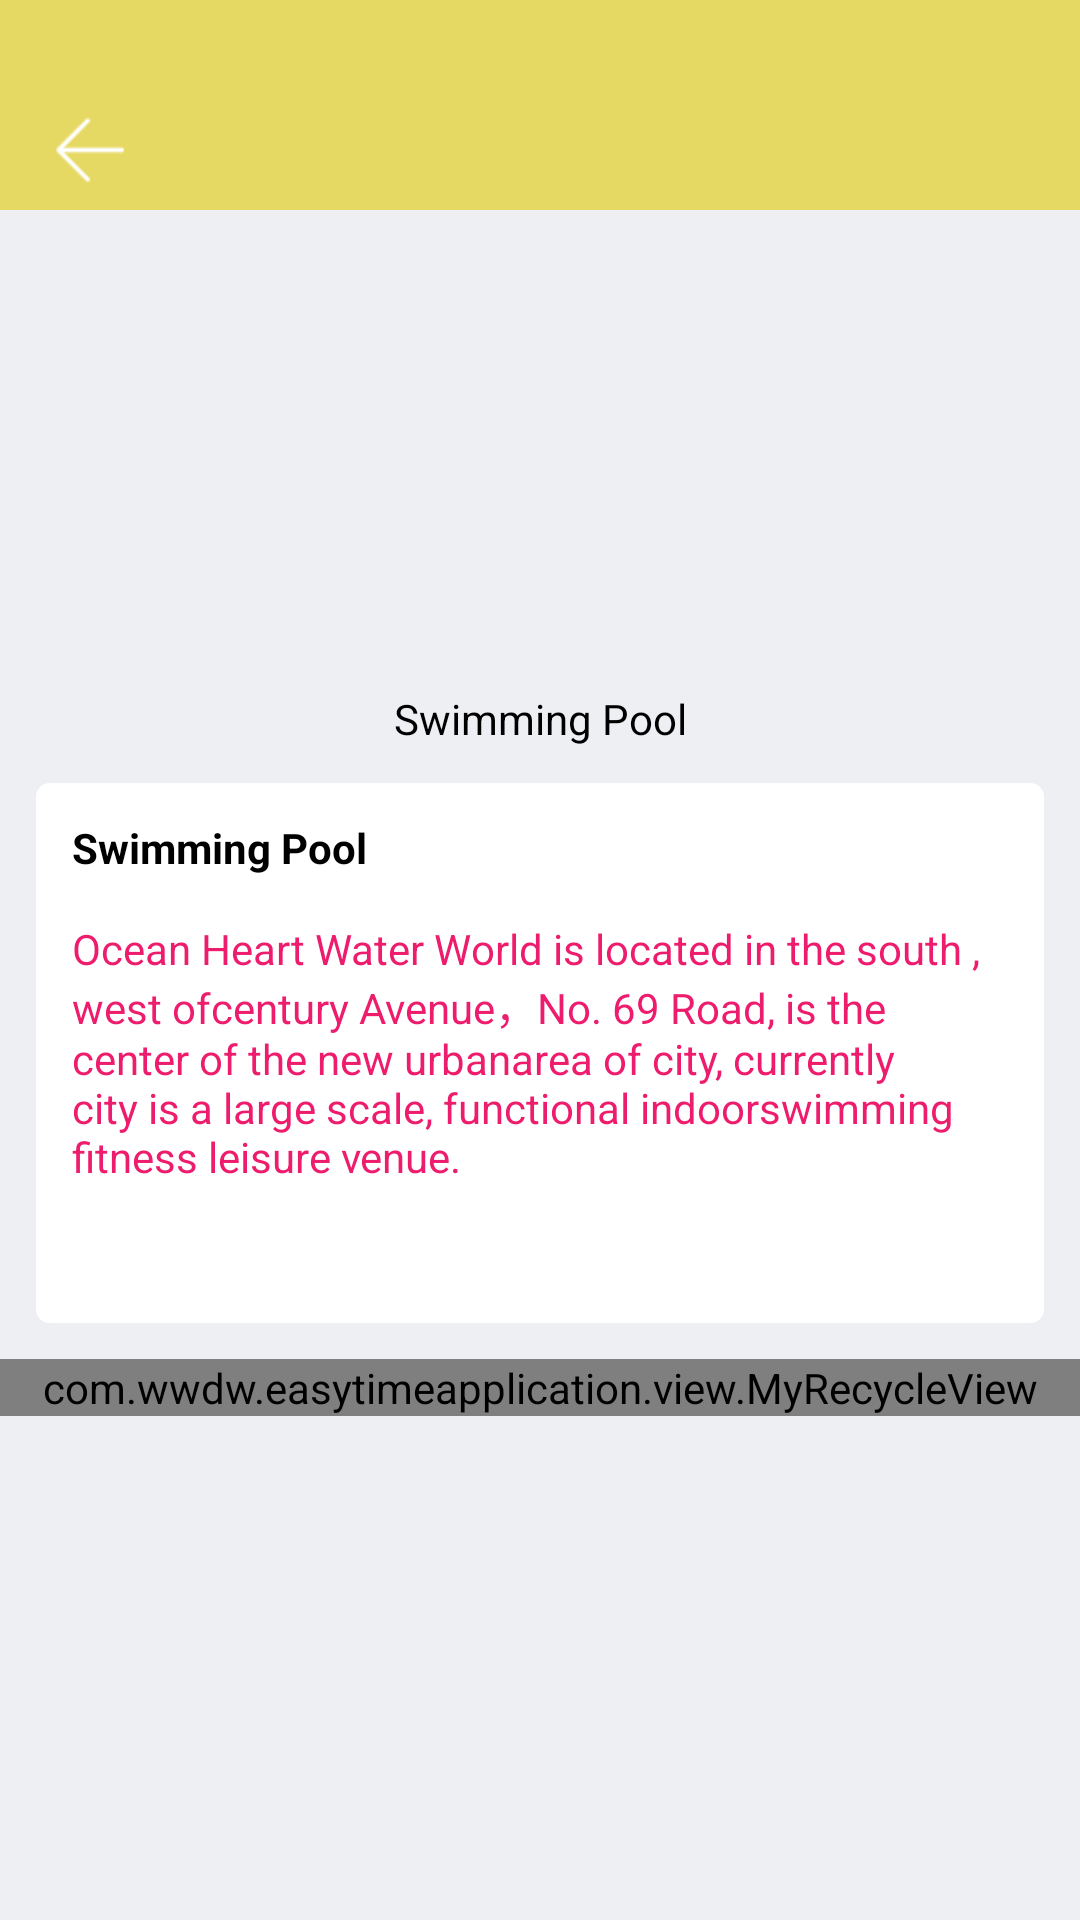

Named icons in this screenshot (1080 × 1920) and their bounding boxes, (x1, y1, x2, y2):
back: (56, 118, 124, 182)
